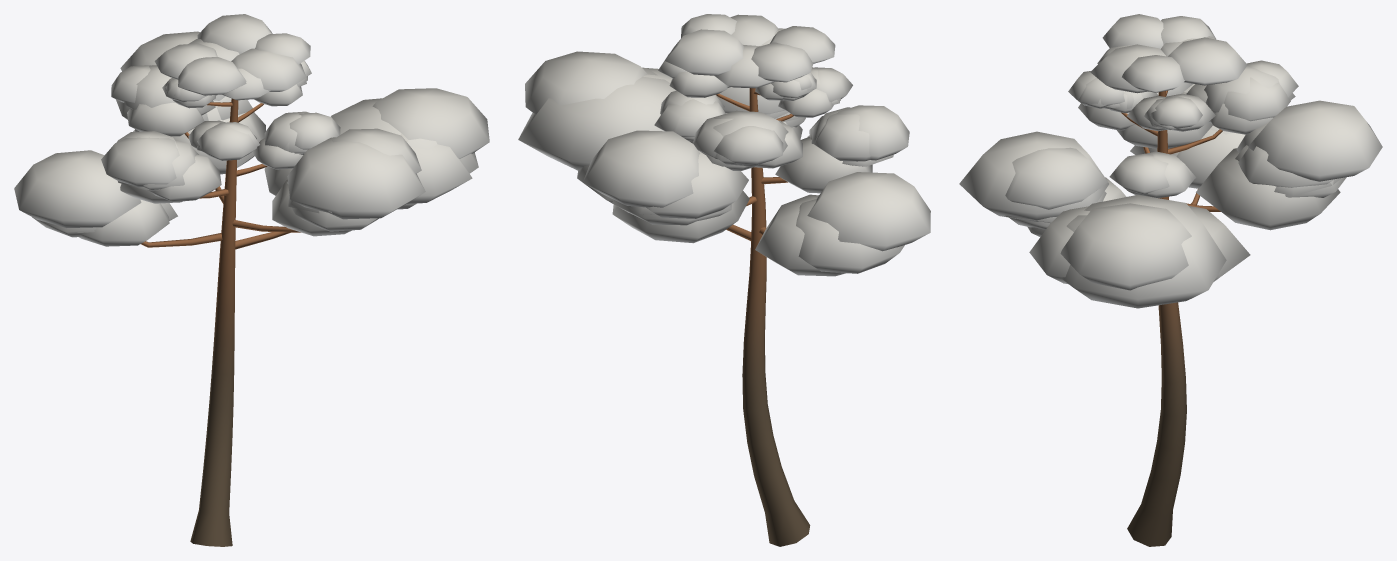
The picture shows the model from 3 angles, left to right: view 1: azimuth 30°, elevation 25°; view 2: azimuth 150°, elevation 25°; view 3: azimuth 270°, elevation 25°; orthographic projection. The views are drawn at different scales.
Parts seen in each view (by area): view 1: crown, trunk; view 2: crown, trunk; view 3: crown, trunk.
Part boxes in pixels (left/top/right/bottom): crown: left=14, top=14, right=489, bottom=246; trunk: left=141, top=98, right=300, bottom=546; crown: left=518, top=14, right=930, bottom=276; trunk: left=716, top=88, right=810, bottom=546; crown: left=959, top=14, right=1382, bottom=308; trunk: left=1121, top=90, right=1222, bottom=546.
Size of the model in its own units: 17.08 by 18.81 by 13.86.
